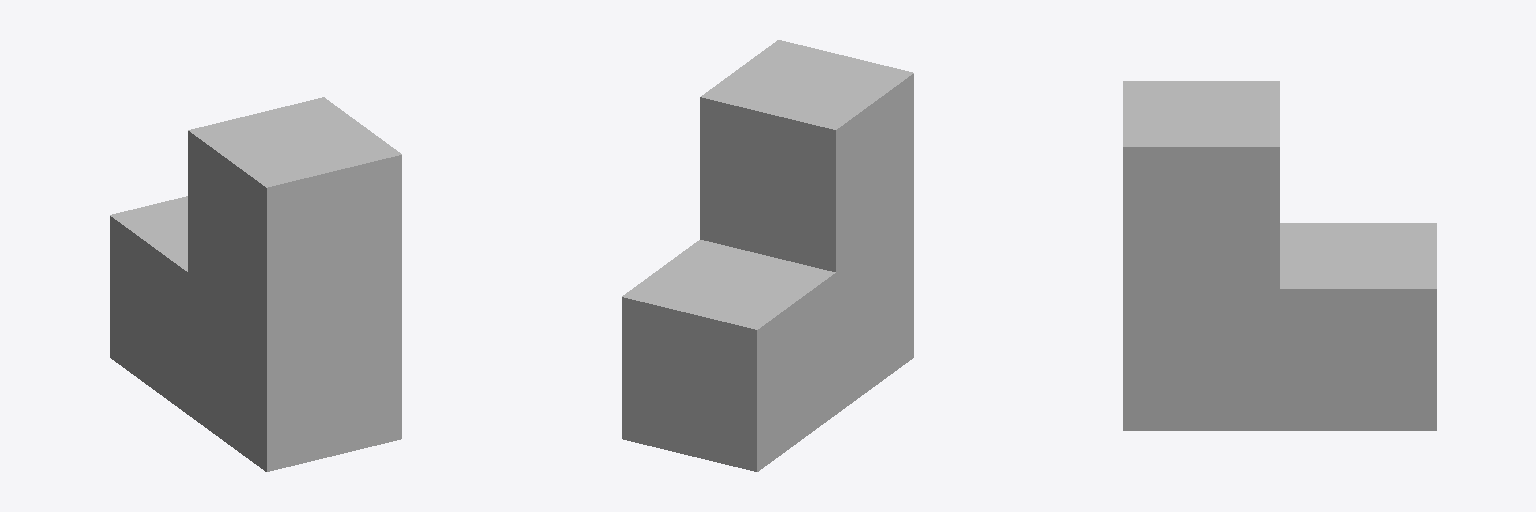
The model's file is Tester.obj.
The picture shows the model from 3 angles: view 1: azimuth 30°, elevation 25°; view 2: azimuth 150°, elevation 25°; view 3: azimuth 270°, elevation 25°; orthographic projection.
Visible parts, largest first — view 1: Cube; view 2: Cube; view 3: Cube.
Boxes of the visible parts, x1,y1,x2,y2 form: Cube: [110, 97, 401, 471]; Cube: [622, 40, 913, 471]; Cube: [1123, 81, 1436, 430].
Bounding box in the file's own units: 2 × 4 × 4.